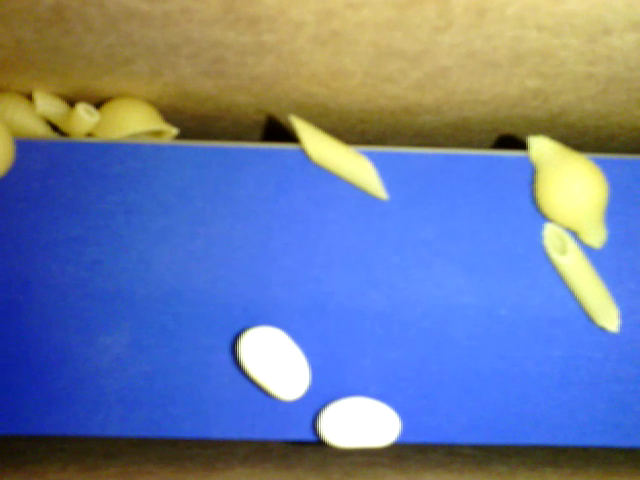elbow: (30, 86, 96, 137)
penne: (284, 110, 389, 197), (541, 219, 617, 335)
shell: (524, 131, 612, 249), (99, 87, 181, 139), (1, 85, 63, 142)
